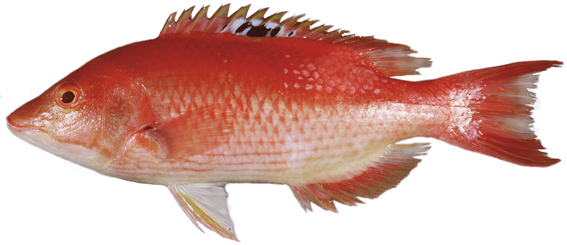fish: (7, 3, 564, 243)
